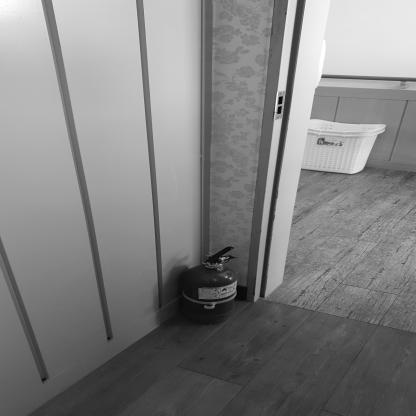FE: (184, 246, 237, 327)
